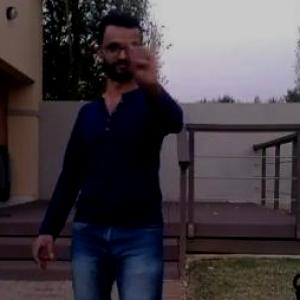takeoff-hand: (123, 24, 166, 80)
